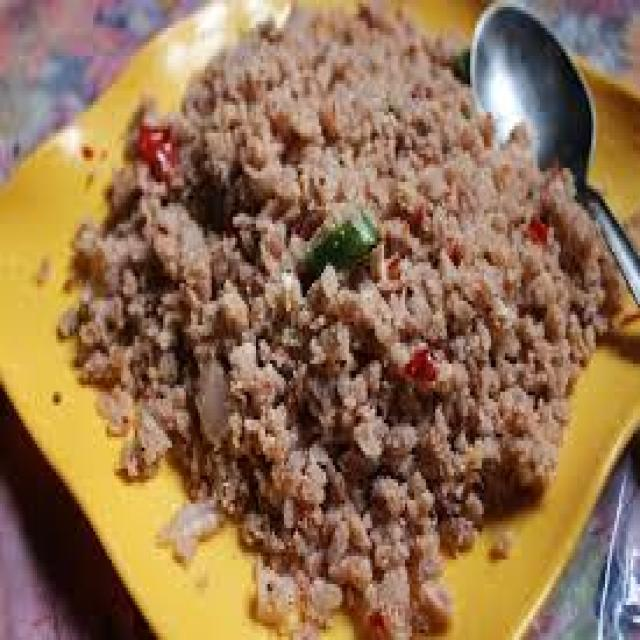UPMA: (47, 0, 617, 637)
